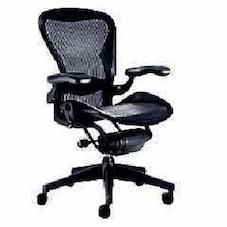chair: (4, 2, 199, 219)
